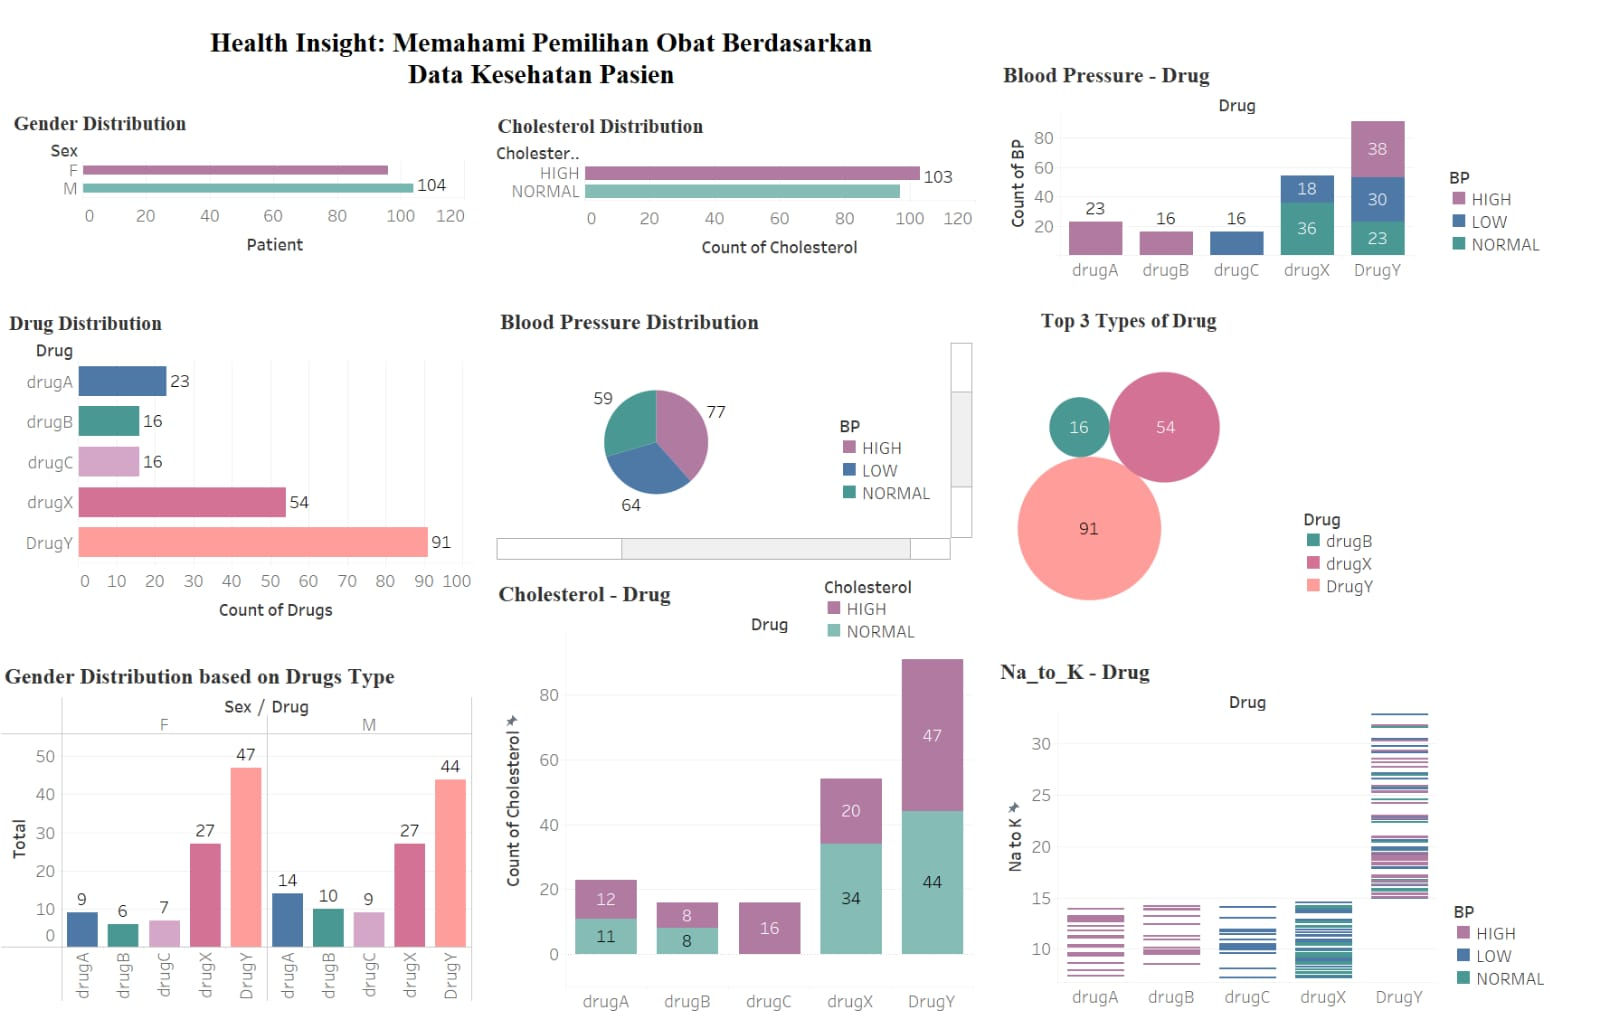

This screenshot's page, from the dashboard's own definition file:
{"tool":"tableau","page":{"name":"Dashboard 1","canvas":[1769,1127],"ordinal":0},"visuals":[{"type":"blank","box":[8,8,1753,30]},{"type":"text","box":[21,8,1070,96]},{"type":"worksheet","title":"BP - Drug","mark":"Automatic","rows":["BP"],"cols":["Drug"],"box":[1105,64,458,247]},{"type":"worksheet","title":"Gender Distribution","mark":"Automatic","rows":["Sex"],"cols":["df_drug.csv_1E86A61ED1C44BD7A8A5CE0256505C19"],"box":[11,118,506,205]},{"type":"worksheet","title":"Cholesterol Distribution","mark":"Automatic","rows":["Cholesterol"],"cols":["df_drug.csv_1E86A61ED1C44BD7A8A5CE0256505C19"],"box":[546,121,532,212]},{"type":"legend","title":"BP - Drug","param":"[federated.036b12z1nyh18x138ii601f66zrr].[none:BP:nk]","box":[1601,181,143,106]},{"type":"worksheet","title":"Top 3 types of drugs","mark":"Circle","box":[1124,336,558,363]},{"type":"worksheet","title":"Blood Pressure","mark":"Pie","box":[549,337,526,282]},{"type":"worksheet","title":"Drug Distribution","mark":"Automatic","rows":["Drug"],"cols":["df_drug.csv_1E86A61ED1C44BD7A8A5CE0256505C19"],"box":[6,339,518,354]},{"type":"legend","title":"Blood Pressure","param":"[federated.036b12z1nyh18x138ii601f66zrr].[none:BP:nk]","box":[927,456,126,134]},{"type":"legend","title":"Top 3 types of drugs","param":"[federated.036b12z1nyh18x138ii601f66zrr].[none:Drug:nk]","box":[1440,559,168,121]},{"type":"legend","title":"Cholesterol -  Drug","param":"[federated.036b12z1nyh18x138ii601f66zrr].[none:Cholesterol:nk]","box":[910,634,152,92]},{"type":"worksheet","title":"Cholesterol -  Drug","mark":"Automatic","rows":["Cholesterol"],"cols":["Drug"],"box":[547,638,529,482]},{"type":"worksheet","title":"Na_to_K - Drug - BP","mark":"Automatic","rows":["Na_to_K"],"cols":["Drug"],"box":[1102,724,487,391]},{"type":"worksheet","title":"Gender Distribution based on Drug Type ","mark":"Automatic","rows":["df_drug.csv_1E86A61ED1C44BD7A8A5CE0256505C19"],"cols":["Sex","Drug"],"box":[1,729,521,379]},{"type":"legend","title":"Na_to_K - Drug - BP","param":"[federated.036b12z1nyh18x138ii601f66zrr].[none:BP:nk]","box":[1606,993,139,101]}]}

Visuals, with their boxes in screenshot pixels (x1, y1, x2, y2), scaled from the page's 1769x1127 canvas onto the 1600x1019 screenshot:
blank: bbox=[7, 7, 1593, 34]
text: bbox=[19, 7, 987, 94]
"BP - Drug" worksheet: bbox=[999, 58, 1414, 281]
"Gender Distribution" worksheet: bbox=[10, 107, 468, 292]
"Cholesterol Distribution" worksheet: bbox=[494, 109, 975, 301]
"BP - Drug" legend: bbox=[1448, 164, 1577, 259]
"Top 3 types of drugs" worksheet (Circle marks): bbox=[1017, 304, 1521, 632]
"Blood Pressure" worksheet (Pie marks): bbox=[497, 305, 972, 560]
"Drug Distribution" worksheet: bbox=[5, 307, 474, 627]
"Blood Pressure" legend: bbox=[838, 412, 952, 533]
"Top 3 types of drugs" legend: bbox=[1302, 505, 1454, 615]
"Cholesterol -  Drug" legend: bbox=[823, 573, 961, 656]
"Cholesterol -  Drug" worksheet: bbox=[495, 577, 973, 1013]
"Na_to_K - Drug - BP" worksheet: bbox=[997, 655, 1437, 1008]
"Gender Distribution based on Drug Type " worksheet: bbox=[1, 659, 472, 1002]
"Na_to_K - Drug - BP" legend: bbox=[1453, 898, 1578, 989]
